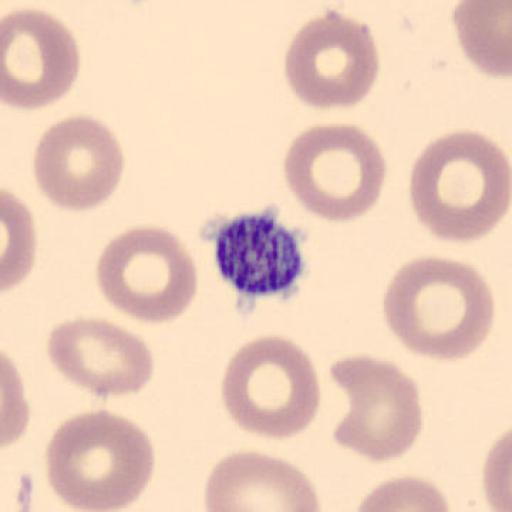Platelet: (210, 207, 311, 301)
RBC: (380, 253, 496, 363), (408, 128, 511, 246), (44, 407, 156, 512), (327, 352, 424, 465), (282, 122, 389, 224), (220, 334, 322, 440), (95, 224, 199, 326), (282, 8, 380, 112), (31, 113, 125, 214), (45, 315, 156, 400), (1, 7, 81, 111), (202, 448, 323, 512), (451, 0, 512, 79), (2, 187, 38, 293), (353, 474, 453, 512), (2, 353, 32, 450), (482, 427, 512, 512)
